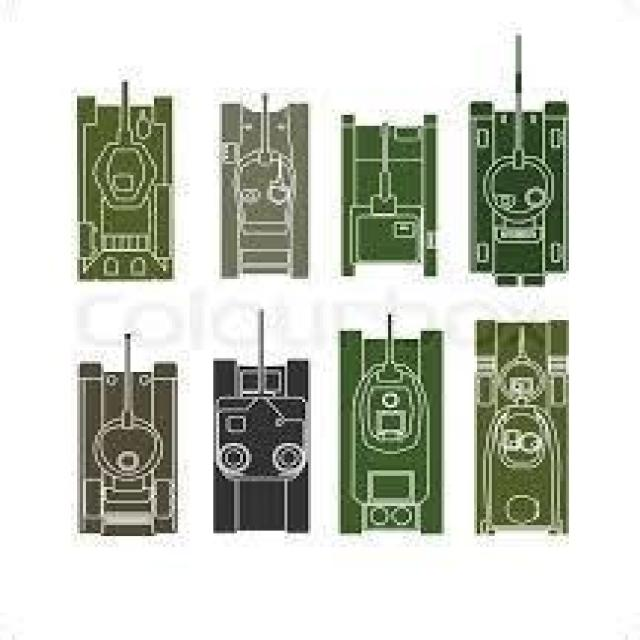Tanks: (468, 304, 581, 574), (333, 308, 452, 559), (459, 70, 575, 286), (74, 343, 181, 557), (70, 89, 179, 299), (212, 337, 312, 556), (335, 96, 447, 290), (218, 89, 310, 297)
